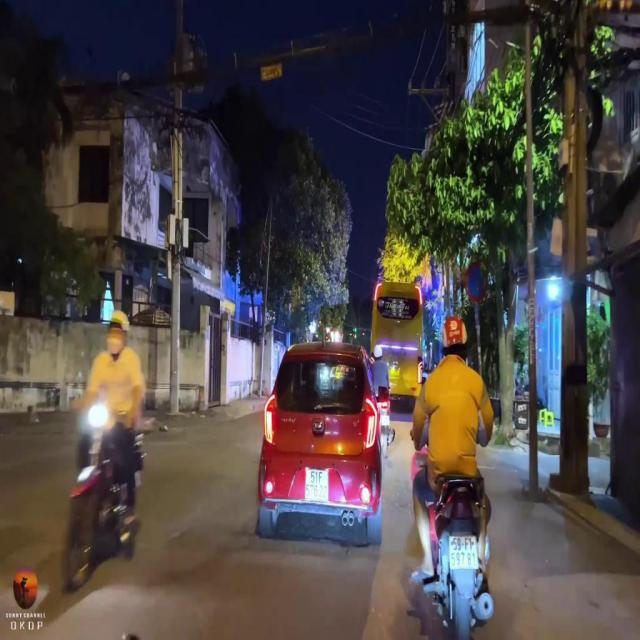cam_do_xe: (466, 260, 488, 301)
